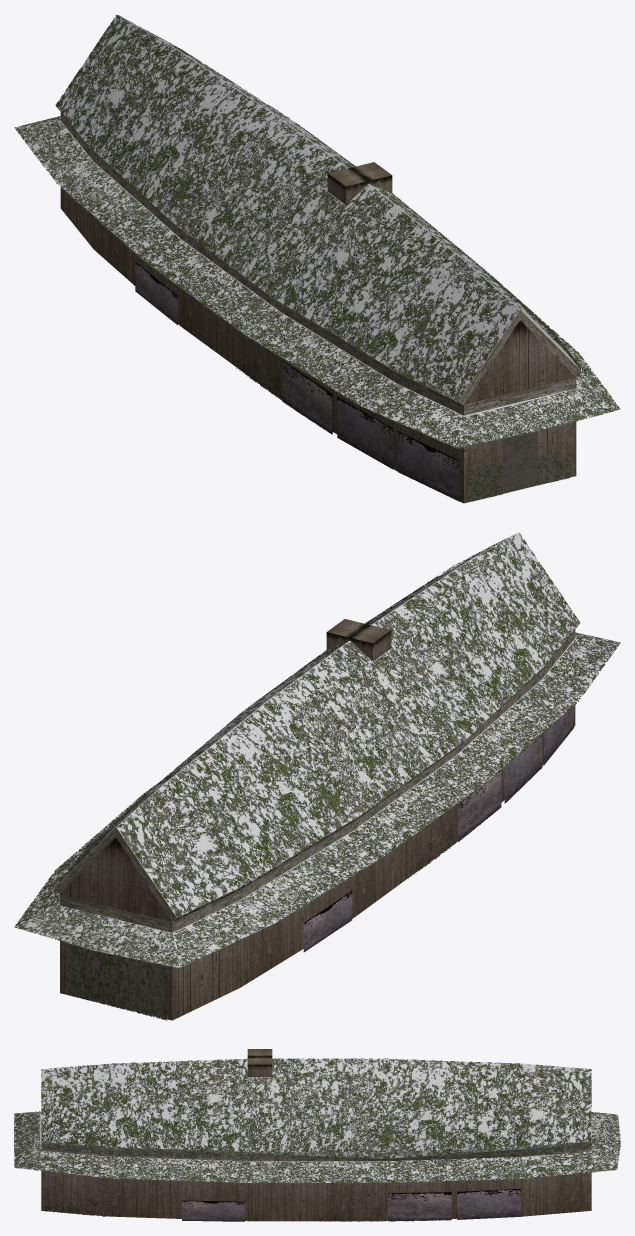
The model's file is Longhouse_LOD04.fbx.
3 renders of one model, top to bottom at view 1: azimuth 30°, elevation 25°; view 2: azimuth 150°, elevation 25°; view 3: azimuth 270°, elevation 25°, orthographic. The views are drawn at different scales.
Visible parts, largest first — view 1: Mesh Object; view 2: Mesh Object; view 3: Mesh Object.
Part boxes in pixels (x1,y1,x2,y2): Mesh Object: [14, 14, 620, 503]; Mesh Object: [14, 532, 620, 1020]; Mesh Object: [14, 1049, 620, 1221].
Size of the model in its own units: 7.06 by 5.46 by 22.07.
